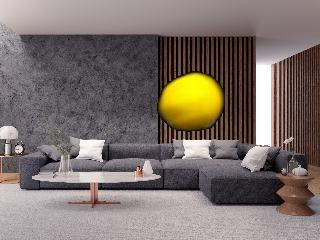lemon: (158, 73, 224, 130)
